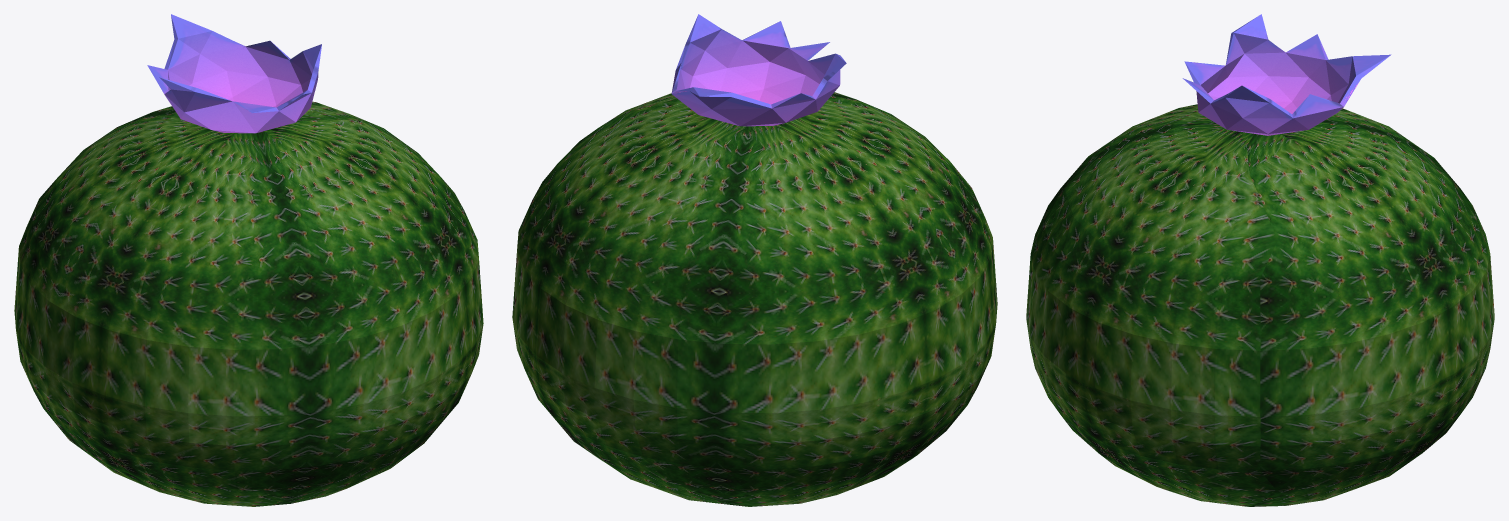
File: cactus2.obj
3 views of the same model, side by side, from view 1: azimuth 30°, elevation 25°; view 2: azimuth 150°, elevation 25°; view 3: azimuth 270°, elevation 25° (orthographic). The views are drawn at different scales.
Parts seen in each view (by area): view 1: cactus2_Sphere; view 2: cactus2_Sphere; view 3: cactus2_Sphere.
Part boxes in pixels (x1,y1,x2,y2): cactus2_Sphere: (14,14,483,506); cactus2_Sphere: (512,14,997,506); cactus2_Sphere: (1026,14,1494,506).
Bounding box in the file's own units: 1 × 1 × 1.
